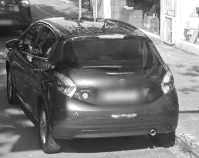car: (6, 16, 180, 154)
